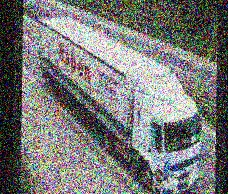truck: (36, 17, 206, 194)
